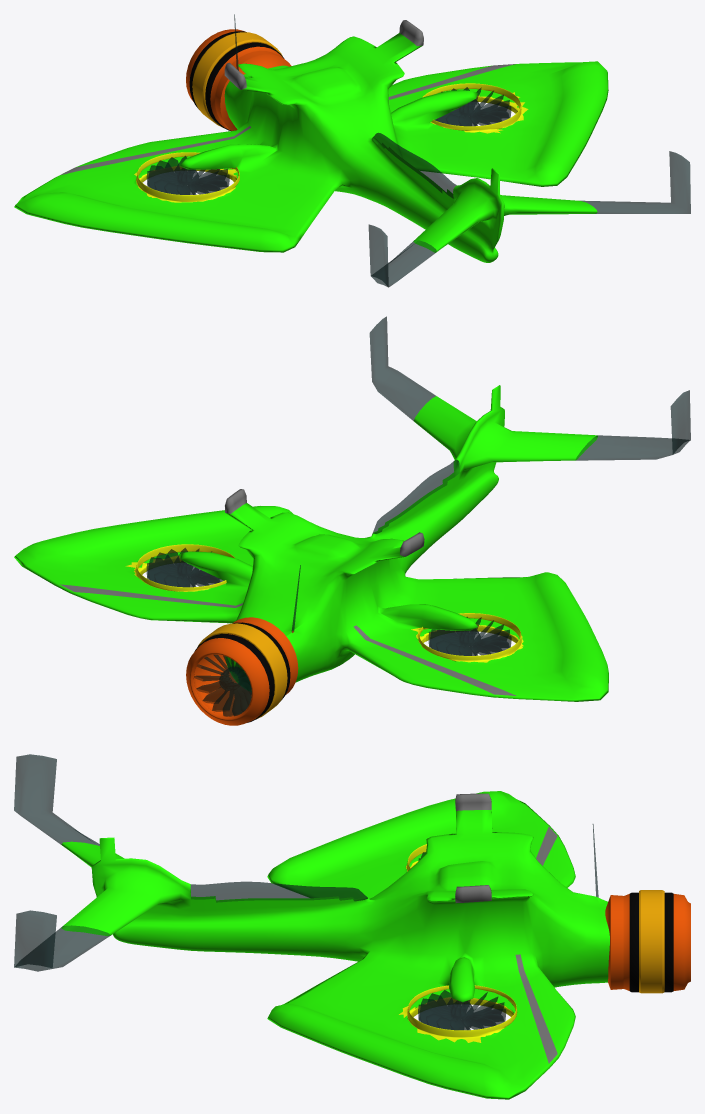
The model's file is Nave enemiga 1.fbx.
The picture shows the model from 3 angles, top to bottom: view 1: azimuth 30°, elevation 25°; view 2: azimuth 150°, elevation 25°; view 3: azimuth 270°, elevation 25°; orthographic projection. The views are drawn at different scales.
Visible parts, largest first — view 1: polySurface33, Tube_6, polySurface30, Tube_5, polySurface31, Tube_4; view 2: polySurface33, Tube_6, polySurface1, polySurface30, polySurface31, Tube_5, Tube_4; view 3: polySurface33, Tube_6, Tube_5, polySurface31, Tube_4.
Boxes of the visible parts, x1,y1,x2,y2 form: polySurface33: [14, 14, 690, 287]; Tube_6: [186, 29, 291, 130]; polySurface30: [146, 156, 229, 194]; Tube_5: [192, 32, 282, 127]; polySurface31: [434, 87, 511, 126]; Tube_4: [189, 31, 284, 130]; polySurface33: [14, 316, 690, 701]; Tube_6: [186, 617, 298, 725]; polySurface1: [194, 654, 251, 716]; polySurface30: [428, 617, 511, 655]; polySurface31: [146, 548, 223, 587]; Tube_5: [197, 623, 287, 718]; Tube_4: [194, 622, 290, 722]; polySurface33: [14, 754, 609, 1099]; Tube_6: [605, 894, 690, 990]; Tube_5: [639, 890, 664, 993]; polySurface31: [418, 990, 506, 1030]; Tube_4: [629, 892, 673, 992].
Bounding box in the file's own units: 805 × 193 × 757.
